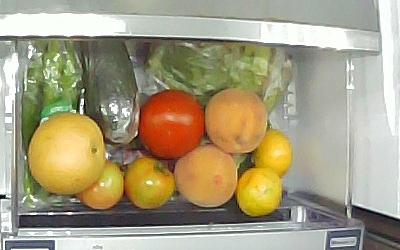peach: (204, 86, 268, 153), (173, 142, 238, 207)
pear: (26, 110, 105, 194)
tangerine: (235, 165, 283, 215), (250, 129, 293, 177)
tomato: (137, 88, 205, 158), (123, 155, 176, 209), (74, 159, 125, 210)
